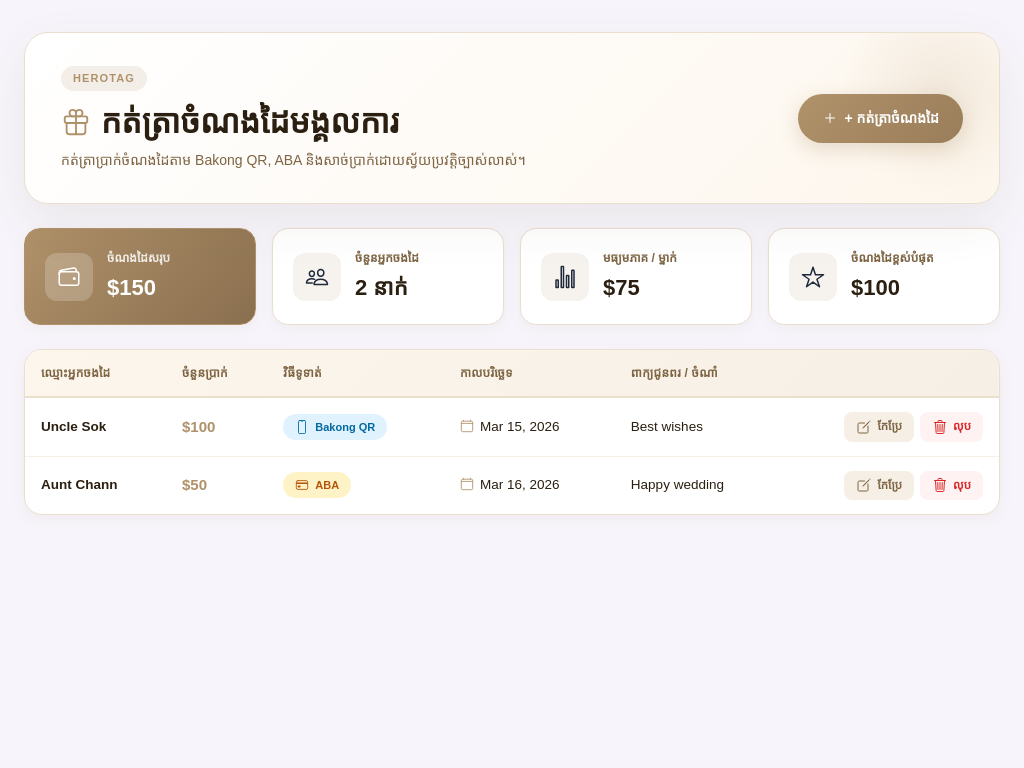
it: GiftsFeature Module › opens gift record modal on add button click
Expected: the text "Uncle Sok" is shown, [41,419,106,434]
Click the button "+ កត់ត្រាចំណងដៃ" at (881, 118), box [798,94,963,143]
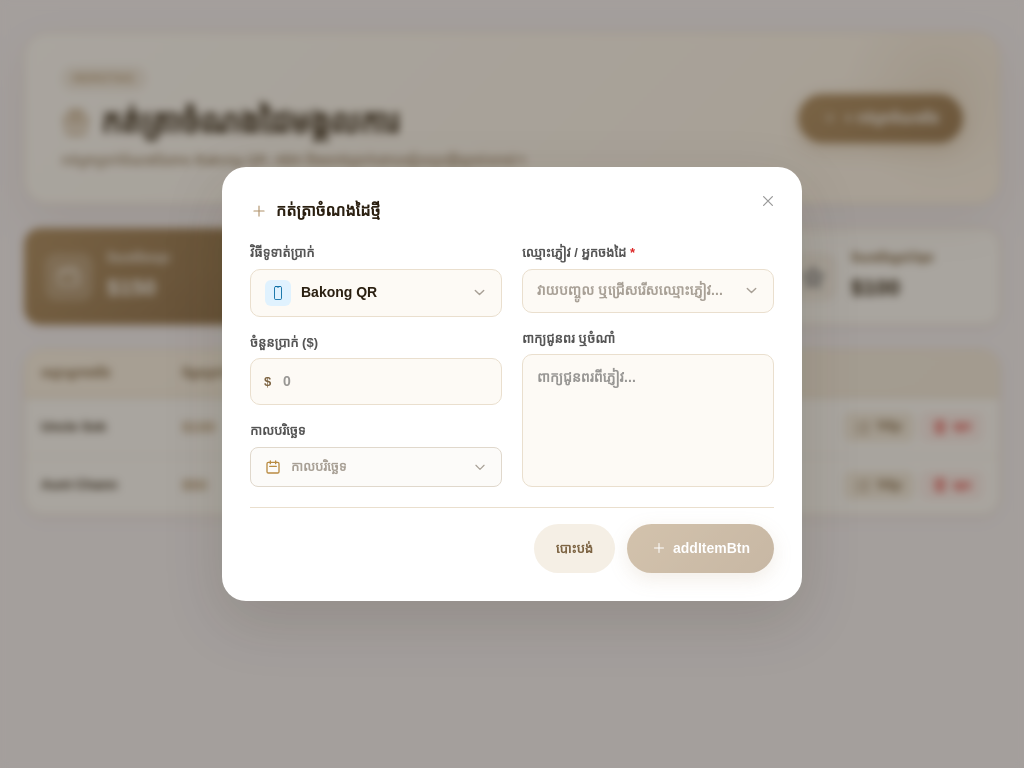
Expected: the button "បោះបង់" is shown, [534,524,615,573]
